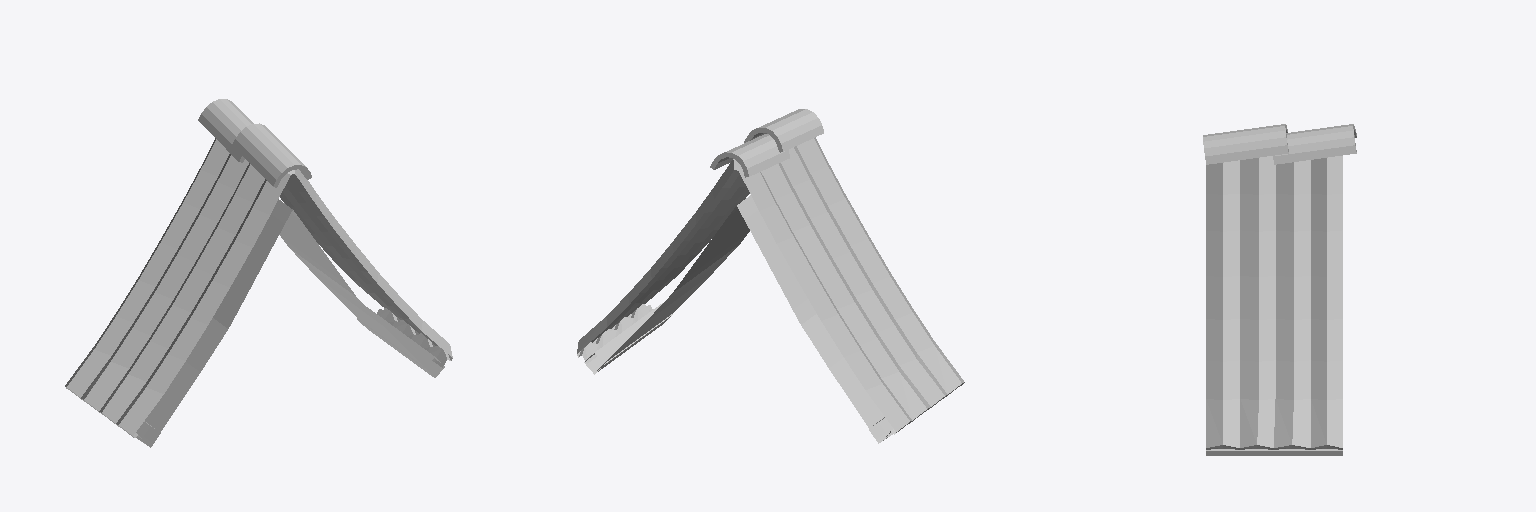
The model's file is Roof_Modular_RoundTiles_4_Mid.obj.
3 views of the same model, side by side, from view 1: azimuth 30°, elevation 25°; view 2: azimuth 150°, elevation 25°; view 3: azimuth 270°, elevation 25° (orthographic).
Visible parts, largest first — view 1: Roof_Modular_RoundTiles_4_Mid; view 2: Roof_Modular_RoundTiles_4_Mid; view 3: Roof_Modular_RoundTiles_4_Mid.
Boxes of the visible parts, <box> form: Roof_Modular_RoundTiles_4_Mid: <box>65,99,452,447</box>; Roof_Modular_RoundTiles_4_Mid: <box>577,109,964,443</box>; Roof_Modular_RoundTiles_4_Mid: <box>1203,124,1356,455</box>.
Size of the model in its own units: 5.59 by 4.2 by 2.25.